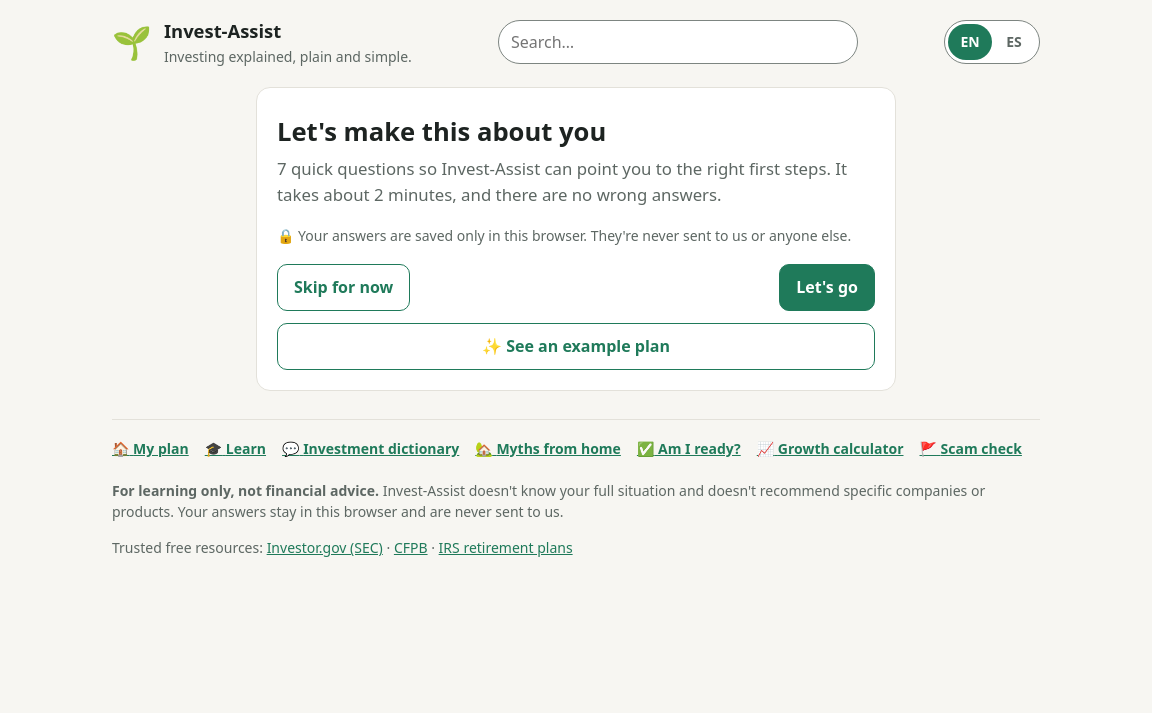
Scenario: demo + myths › fills a sample plan in one tap
Click the button "✨ See an example plan".
click(576, 347)  # box [277,323,875,370]
(page scrolled)
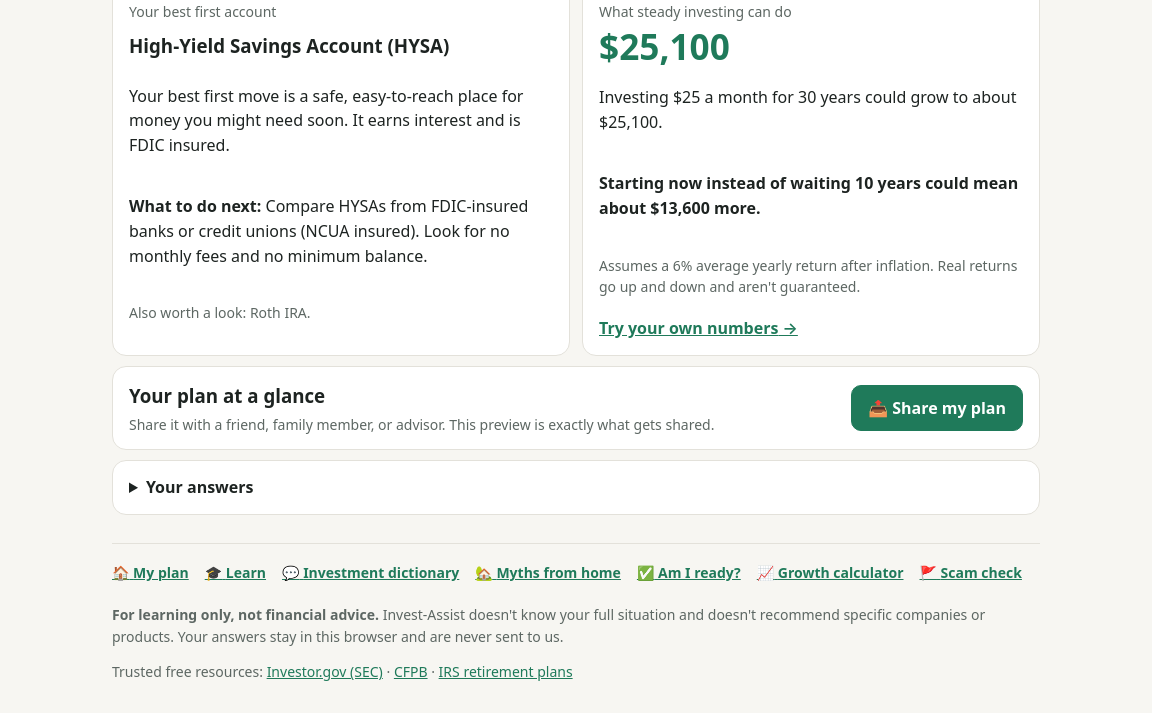
Click the button "📤 Share my plan".
click(937, 408)  # box [851,385,1023,431]
(page scrolled)
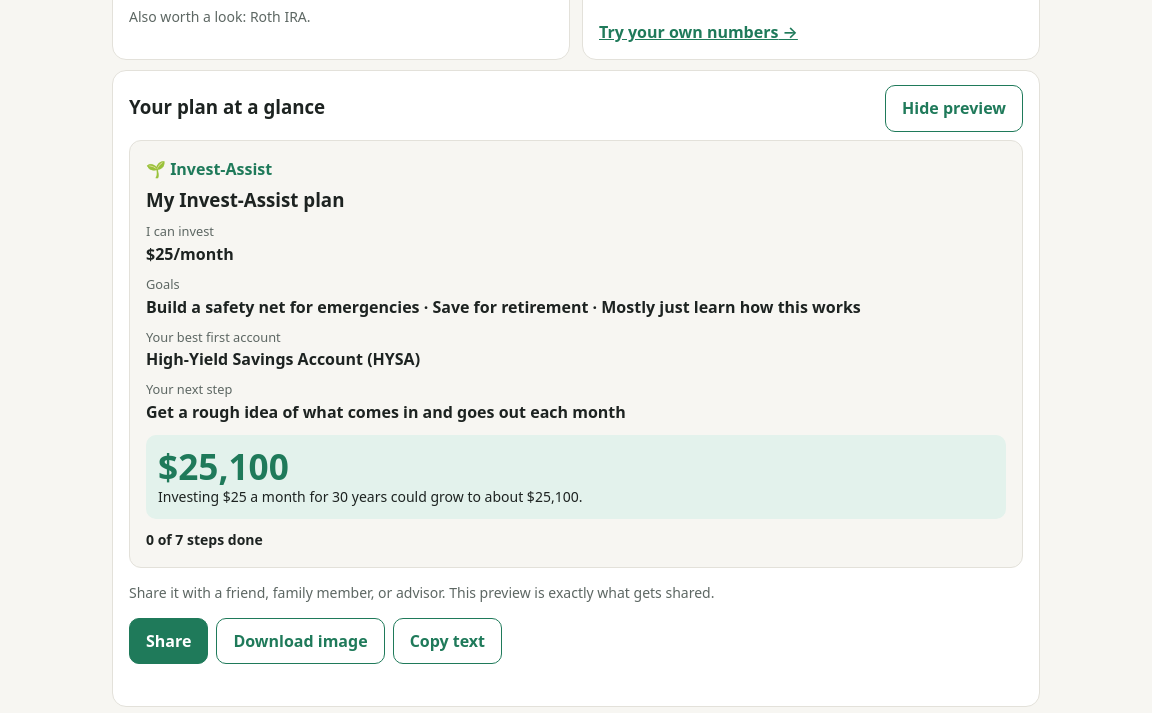
Result: the element with class "share-preview" shows "$25/month" at [146,243,234,265]
